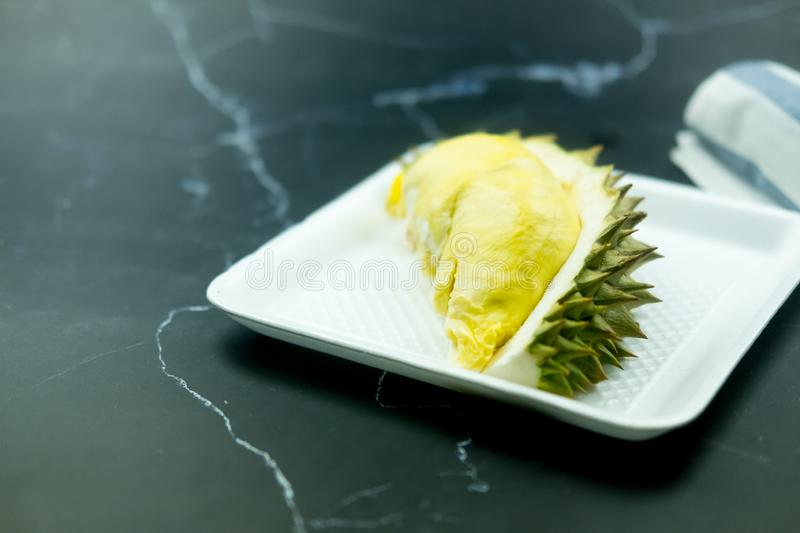Foam Box: (201, 123, 800, 446)
